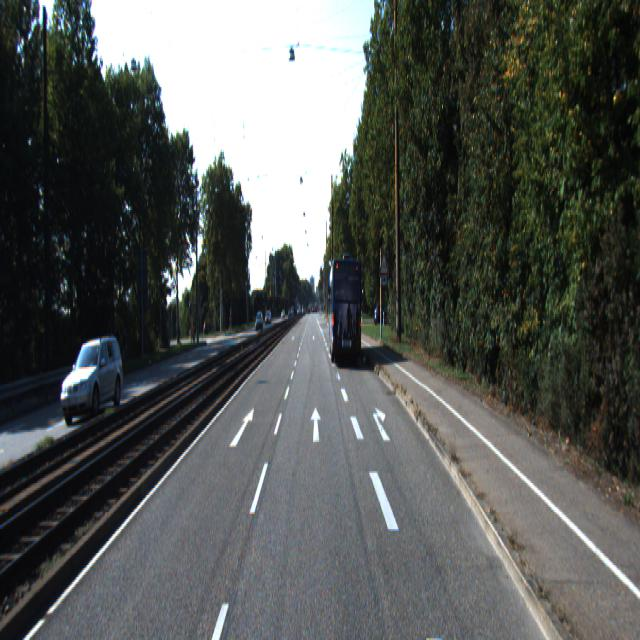Car: (58, 329, 127, 424), (330, 251, 362, 362)
